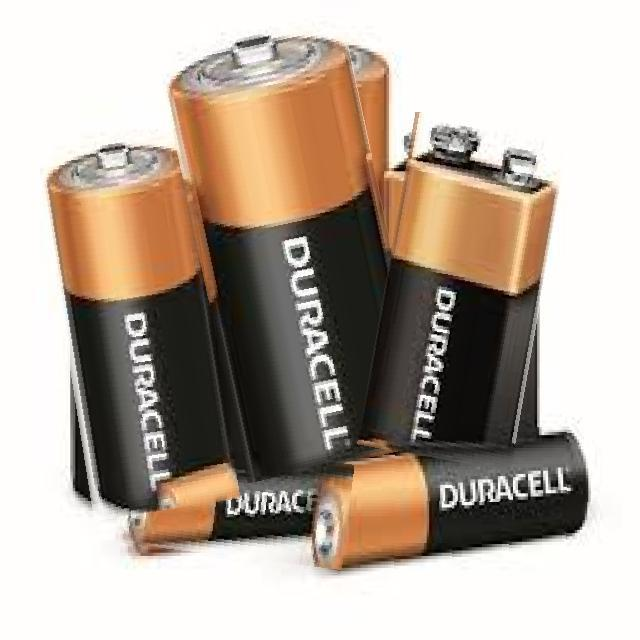Battery: (166, 34, 394, 469), (48, 141, 226, 515), (363, 111, 563, 439), (311, 427, 594, 572), (129, 467, 318, 543), (348, 49, 399, 246)
